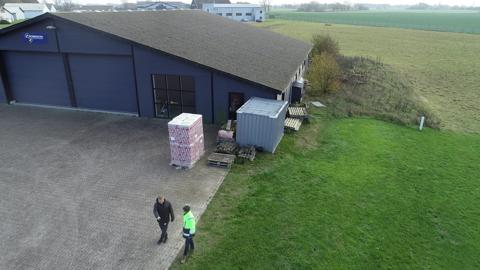RockwoolPallet: (167, 111, 205, 168)
